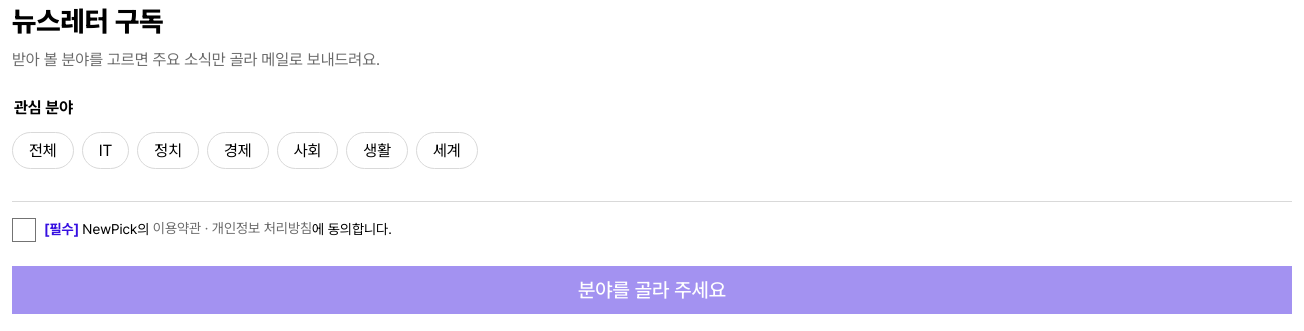
Test: SubscribeSheet (#52) › "전체"는 모든 분야를 고른다
Click the button "전체".
click(43, 150)  # box [12,132,74,169]
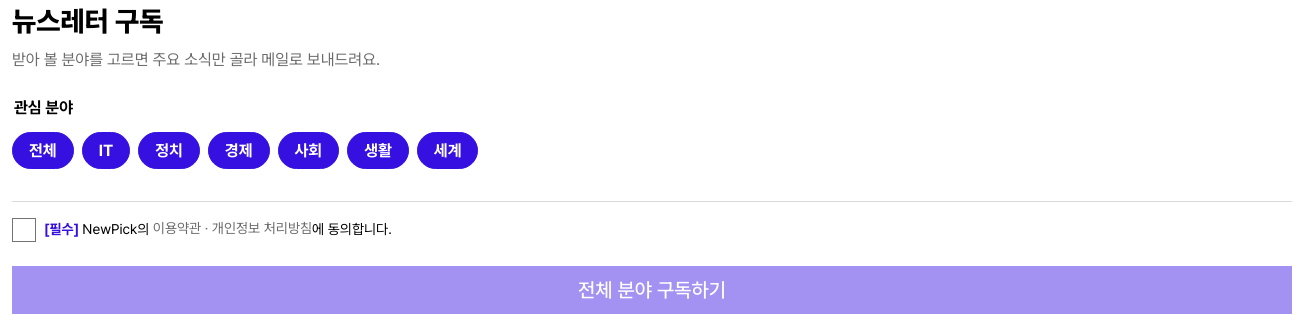
Now the button "전체 분야 구독하기" is shown, box [12,266,1292,314]
